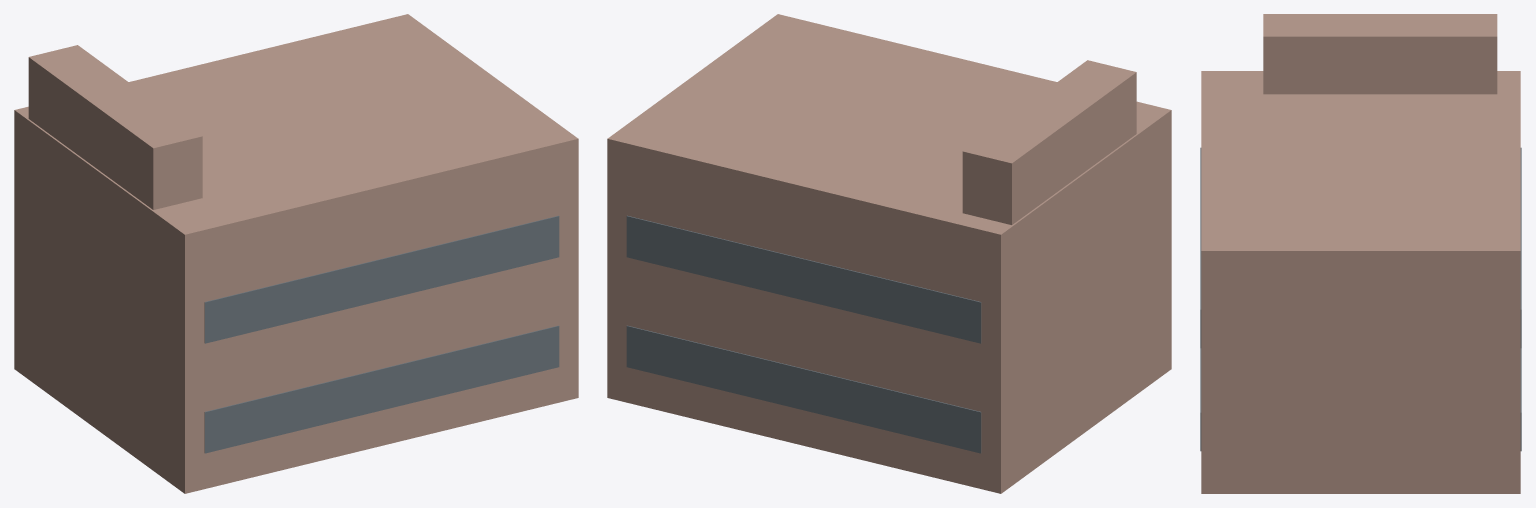
File: harbour-office.loc-v1.lod2.glb
The picture shows the model from 3 angles, left to right: view 1: azimuth 30°, elevation 25°; view 2: azimuth 150°, elevation 25°; view 3: azimuth 270°, elevation 25°; orthographic projection. The views are drawn at different scales.
Parts seen in each view (by area): view 1: harbour-office; view 2: harbour-office; view 3: harbour-office.
Boxes of the visible parts, x1,y1,x2,y2 form: harbour-office: (14,14,578,493); harbour-office: (607,14,1171,493); harbour-office: (1200,14,1521,493).
Bounding box in the file's own units: 12 × 9.35 × 9.06.
